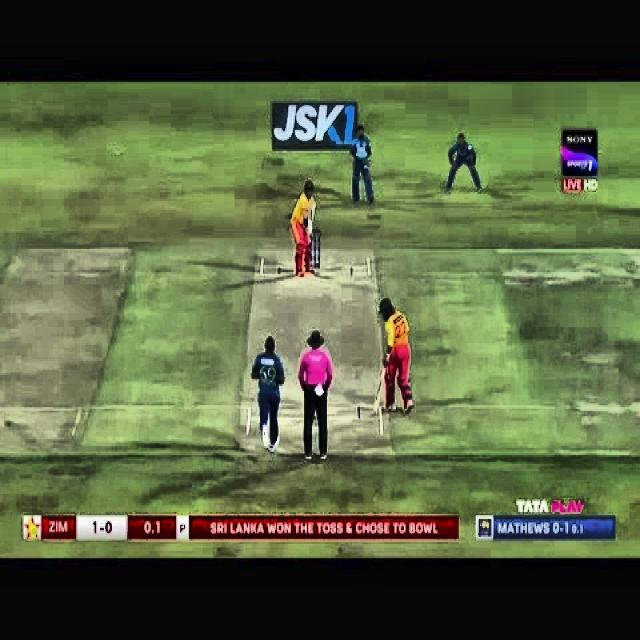Middle-stump: (314, 231, 316, 268)
Right-stump: (318, 232, 321, 268)
